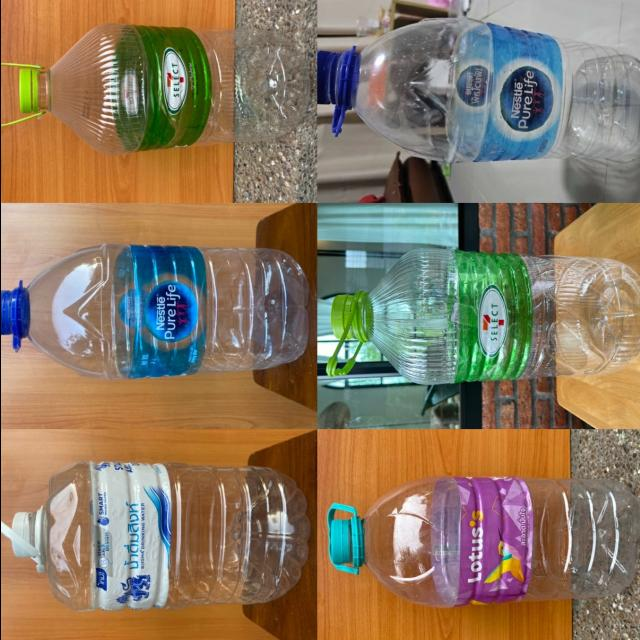plastik: (317, 18, 640, 162), (0, 462, 308, 612), (326, 248, 640, 385), (0, 244, 307, 380), (326, 476, 638, 608), (0, 23, 313, 154)
